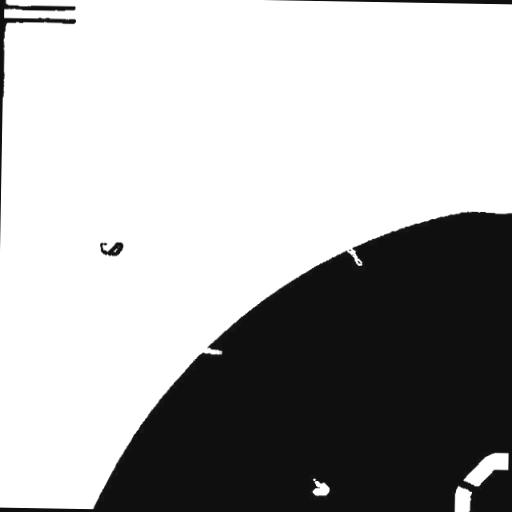copper: (92, 234, 130, 264)
mousebite: (334, 238, 370, 273), (190, 340, 230, 362)
pin-hole: (304, 470, 338, 503)
short: (448, 471, 488, 501)
